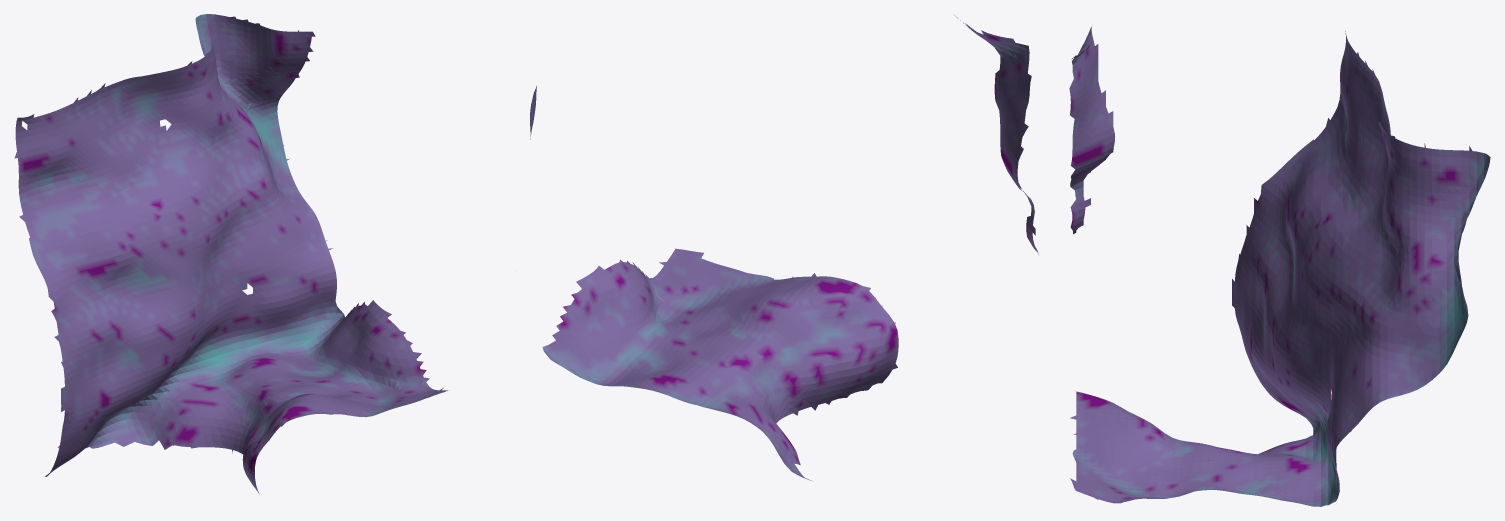
File: crop1035_gap.glb
3 renders of one model, left to right at view 1: azimuth 30°, elevation 25°; view 2: azimuth 150°, elevation 25°; view 3: azimuth 270°, elevation 25°, orthographic. The views are drawn at different scales.
Parts seen in each view (by area): view 1: world; view 2: world; view 3: world.
Part boxes in pixels (x1=…): world: x1=14, y1=14, x2=447, y2=494; world: x1=530, y1=15, x2=1038, y2=480; world: x1=1069, y1=26, x2=1490, y2=506.
Bounding box in the file's own units: 927 × 928 × 909.
